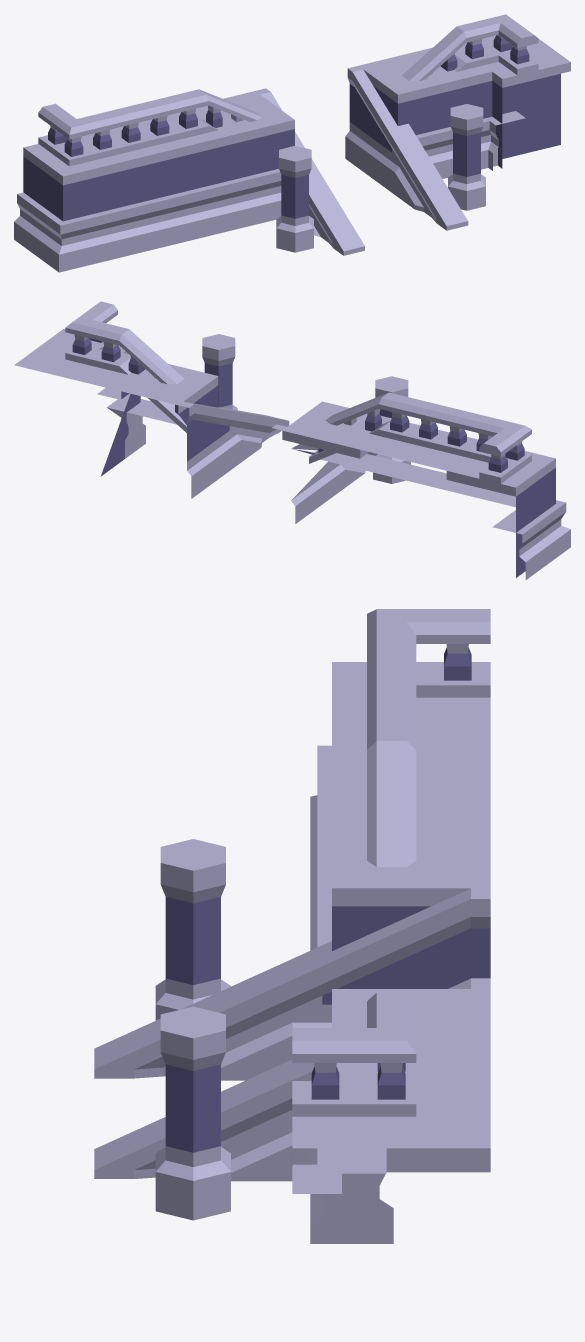
The model's file is dungeon_walls.glb.
3 views of the same model, one above another, from view 1: azimuth 30°, elevation 25°; view 2: azimuth 150°, elevation 25°; view 3: azimuth 270°, elevation 25° (orthographic). The views are drawn at different scales.
Parts seen in each view (by area): view 1: dungeon_outer, dungeon_ramp_upper_right, dungeon_side, dungeon_inner, dungeon_ramp_upper_left, dungeon_ramp_lower_right, dungeon_ramp_lower_left; view 2: dungeon_outer, dungeon_ramp_upper_right, dungeon_inner, dungeon_ramp_upper_left, dungeon_side, dungeon_ramp_lower_right, dungeon_ramp_lower_left; view 3: dungeon_ramp_upper_left, dungeon_inner, dungeon_ramp_lower_right, dungeon_ramp_lower_left, dungeon_ramp_upper_right, dungeon_side, dungeon_outer.
Part boxes in pixels (x1,y1,x2,y2): dungeon_outer: (14,103,137,272); dungeon_ramp_upper_right: (345,26,475,194); dungeon_side: (109,89,222,253); dungeon_inner: (455,14,570,170); dungeon_ramp_upper_left: (195,88,315,232); dungeon_ramp_lower_right: (395,104,485,230); dungeon_ramp_lower_left: (276,145,364,255); dungeon_outer: (446,413,570,579); dungeon_ramp_upper_right: (101,329,241,498); dungeon_inner: (14,301,145,476); dungeon_ramp_upper_left: (272,392,403,523); dungeon_side: (360,392,483,496); dungeon_ramp_lower_right: (202,334,289,462); dungeon_ramp_lower_left: (342,376,410,487); dungeon_ramp_upper_left: (292,741,490,1027); dungeon_inner: (292,992,490,1227); dungeon_ramp_lower_right: (94,1006,292,1220); dungeon_ramp_lower_left: (94,839,292,1080); dungeon_ramp_upper_right: (292,978,490,1243); dungeon_side: (310,657,490,950); dungeon_outer: (310,609,490,872).
Bounding box in the file's own units: 5.91 × 1.4 × 2.
